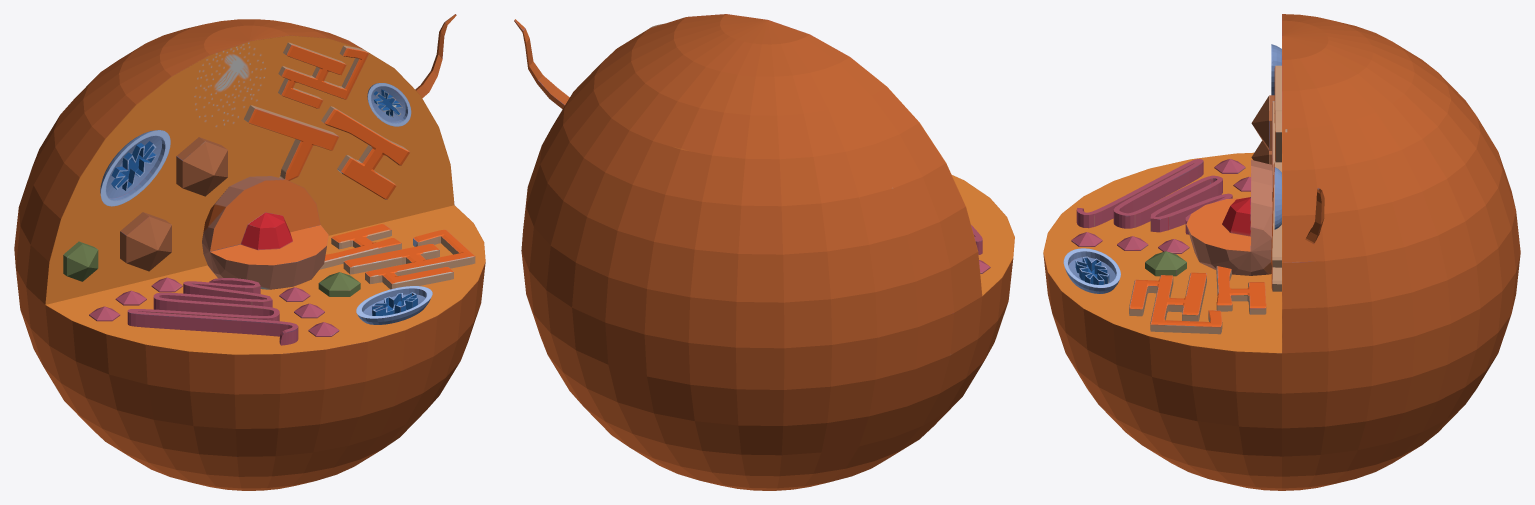
Rendered from cell.glb.
3 renders of one model, left to right at view 1: azimuth 30°, elevation 25°; view 2: azimuth 150°, elevation 25°; view 3: azimuth 270°, elevation 25°, orthographic. The views are drawn at different scales.
Parts seen in each view (by area): view 1: Object_2; view 2: Object_2; view 3: Object_2.
Part boxes in pixels (x1,y1,x2,y2): Object_2: (14, 14, 485, 490); Object_2: (514, 14, 1014, 490); Object_2: (1043, 14, 1520, 490).
Size of the model in its own units: 210 by 200 by 200.
Materials: 1 (1 with a texture image).
